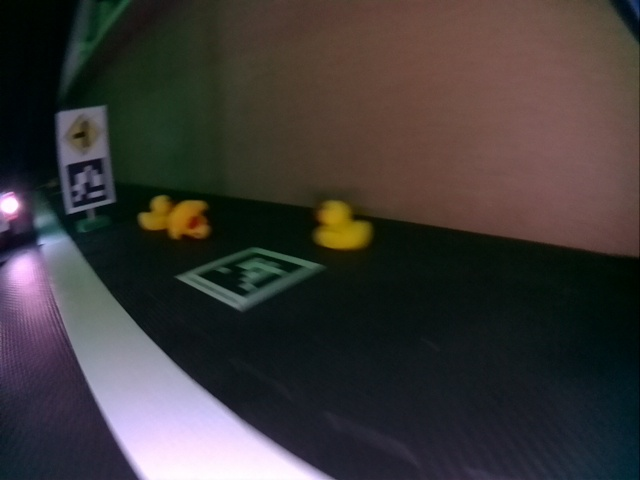Duckie: (314, 200, 372, 249), (169, 200, 208, 239), (138, 196, 170, 229)
Intersection sign: (62, 111, 103, 155)
QR code: (180, 249, 322, 306), (65, 157, 110, 209)
